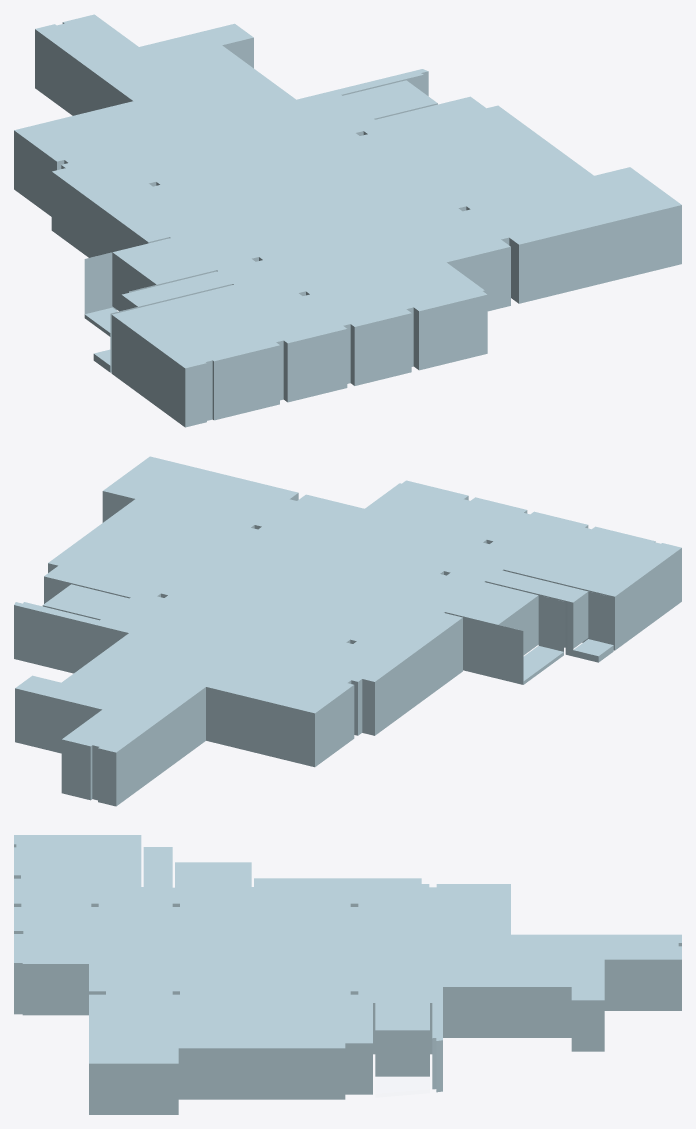
3 renders of one model, top to bottom at view 1: azimuth 30°, elevation 25°; view 2: azimuth 150°, elevation 25°; view 3: azimuth 270°, elevation 25°, orthographic. The views are drawn at different scales.
Parts seen in each view (by area): view 1: 1kbWBs3xzC9ffEKBBI71ZF; view 2: 1kbWBs3xzC9ffEKBBI71ZF; view 3: 1kbWBs3xzC9ffEKBBI71ZF.
Boxes of the visible parts, x1,y1,x2,y2 form: 1kbWBs3xzC9ffEKBBI71ZF: [14, 14, 681, 427]; 1kbWBs3xzC9ffEKBBI71ZF: [14, 456, 681, 806]; 1kbWBs3xzC9ffEKBBI71ZF: [14, 835, 681, 1114].
Bounding box in the file's own units: 23.3 × 2.44 × 28.8.
